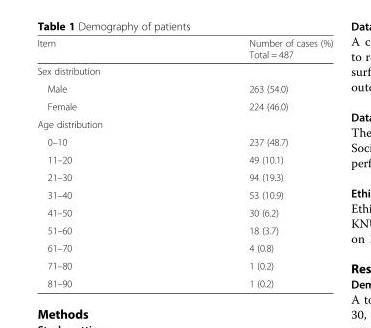table: (36, 37, 332, 288)
table column: (162, 37, 332, 288), (36, 37, 162, 288)
table column header: (36, 37, 332, 62)
table projected row header: (36, 62, 332, 79), (36, 115, 332, 132)
table row: (36, 37, 332, 62), (36, 79, 332, 97), (36, 97, 332, 115), (36, 132, 332, 150), (36, 150, 332, 168), (36, 185, 332, 203), (36, 203, 332, 221), (36, 238, 332, 256), (36, 256, 332, 274), (36, 62, 332, 79), (36, 115, 332, 132), (36, 168, 332, 185), (36, 221, 332, 238), (36, 274, 332, 288)
